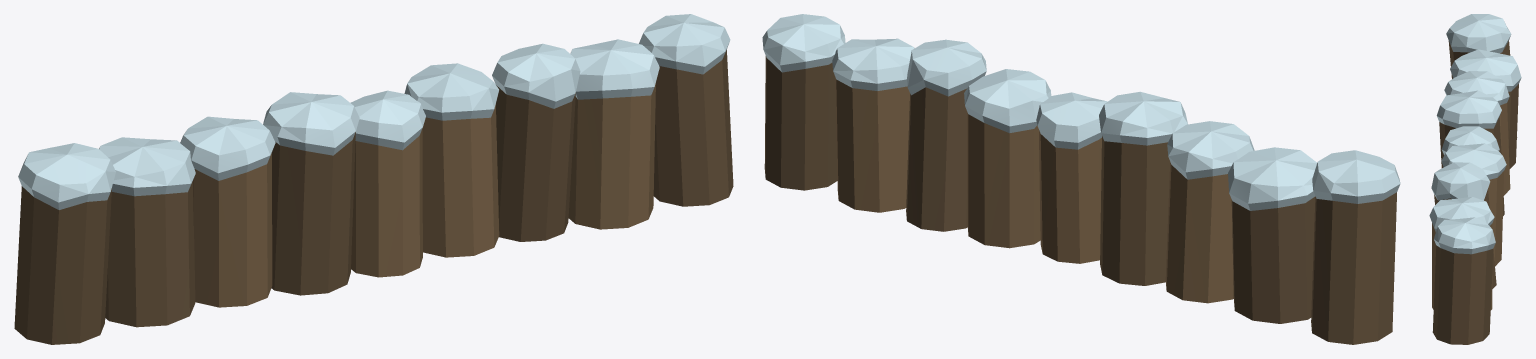
Rendered from Troncos_Camino01.glb.
The picture shows the model from 3 angles, left to right: view 1: azimuth 30°, elevation 25°; view 2: azimuth 150°, elevation 25°; view 3: azimuth 270°, elevation 25°; orthographic projection. The views are drawn at different scales.
Visible parts, largest first — view 1: SM_Env_Path_Wood_Side_01_Snow; view 2: SM_Env_Path_Wood_Side_01_Snow; view 3: SM_Env_Path_Wood_Side_01_Snow.
Part boxes in pixels (x1,y1,x2,y2): SM_Env_Path_Wood_Side_01_Snow: (14,14,733,344); SM_Env_Path_Wood_Side_01_Snow: (762,14,1400,344); SM_Env_Path_Wood_Side_01_Snow: (1429,14,1521,344).
Size of the model in its own units: 3.76 by 0.9235 by 0.6576.
Materials: 1 (1 with a texture image).
